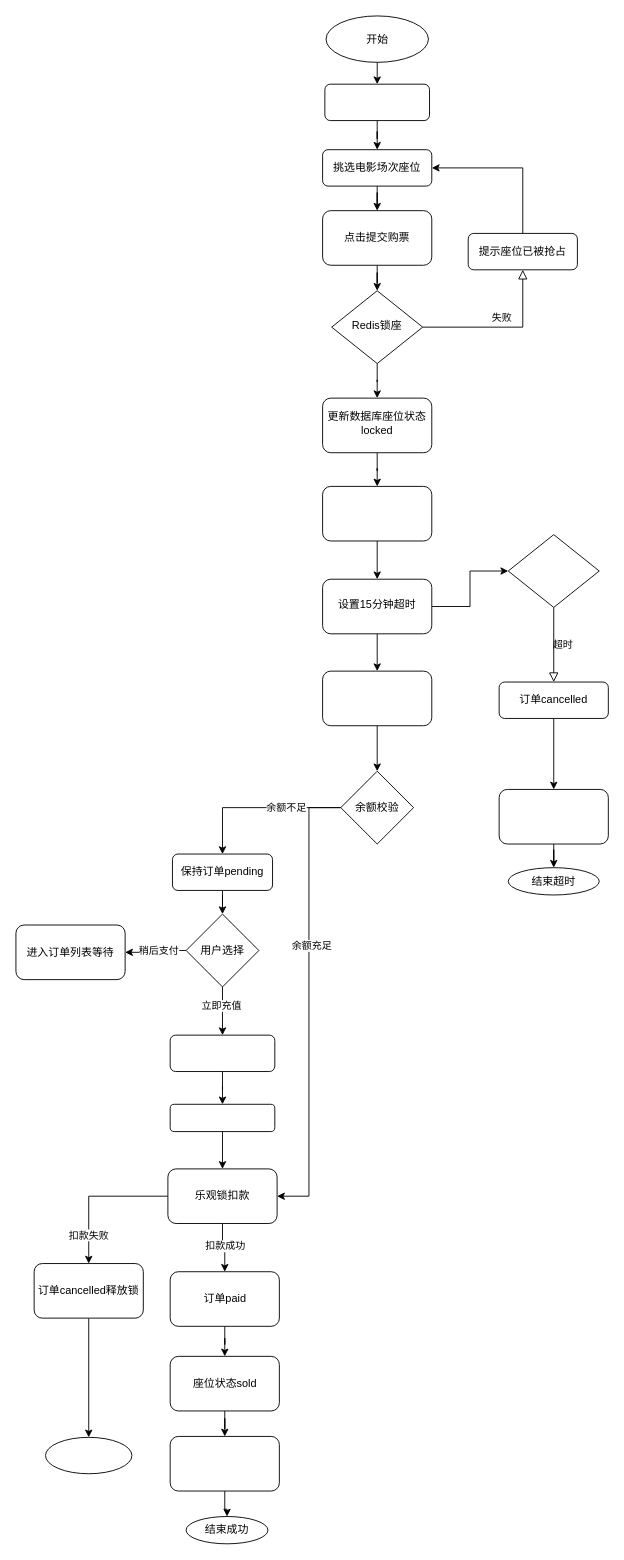
The diagram is 624 pixels wide and 1560 high, and some of its shapes have lost their labels. The centre of each missing label's shape, as x and y in pixels:
"充值成功" goes at [222,1053].
"创建订单pending" goes at [377,513].
"定时扫描" goes at [553,570].
"手动支付订单" goes at [222,1117].
"推入Redis队列异步处理" goes at [377,698].
"生成电子取票码" goes at [224,1463].
"用户进入" goes at [377,102].
"结束失败" goes at [88,1455].
"释放锁恢复座位" goes at [553,816].
